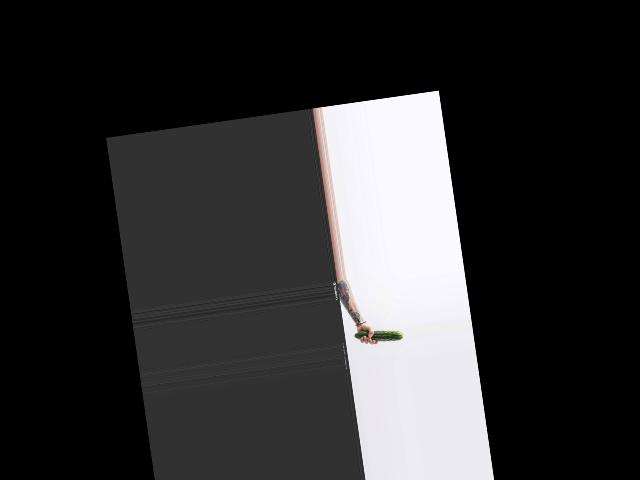cucumber: (354, 326, 403, 346)
